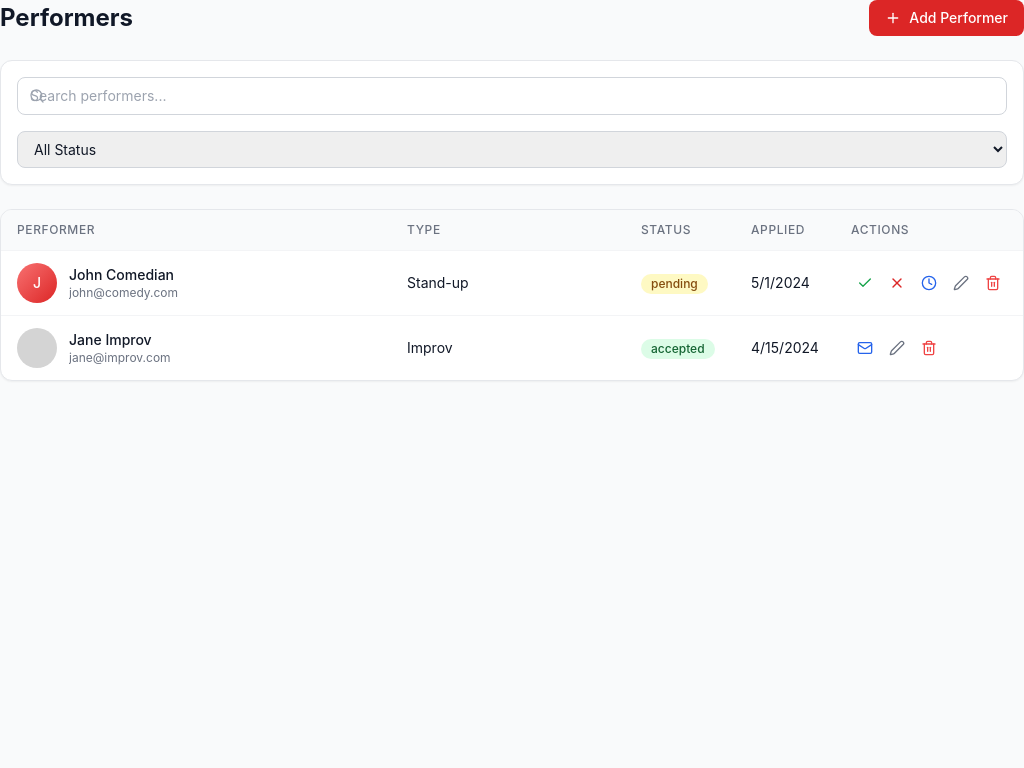
Test: Performers › add performer modal › opens modal when clicking Add Performer
What coordinates should you click on to do the following:
click the button "Add Performer"
I would click on:
 (947, 18)
Its box is [869,0,1023,36].
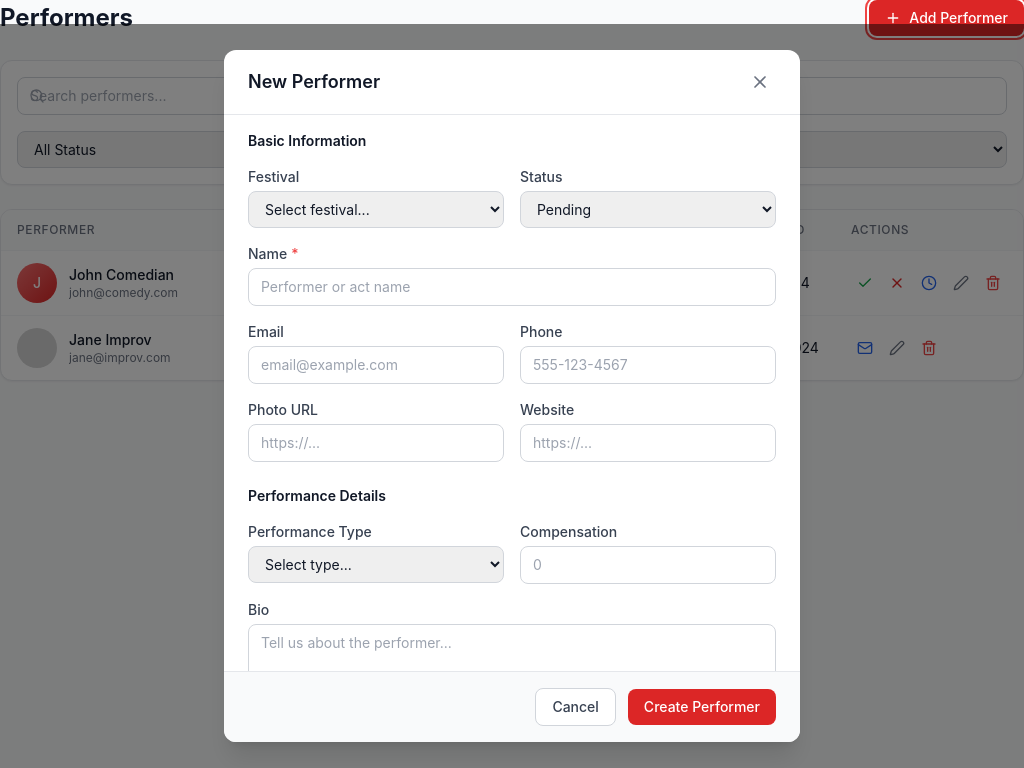
Expected: the heading "New Performer" is shown, [248,68,380,96]
